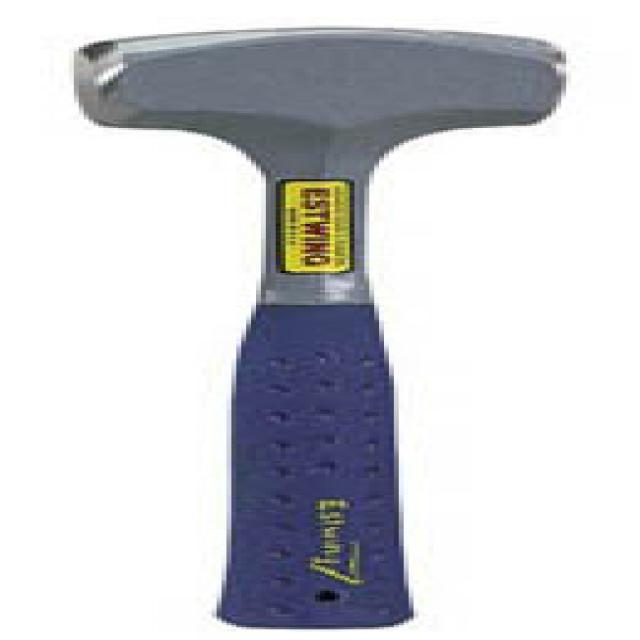hammer: (36, 21, 588, 638)
